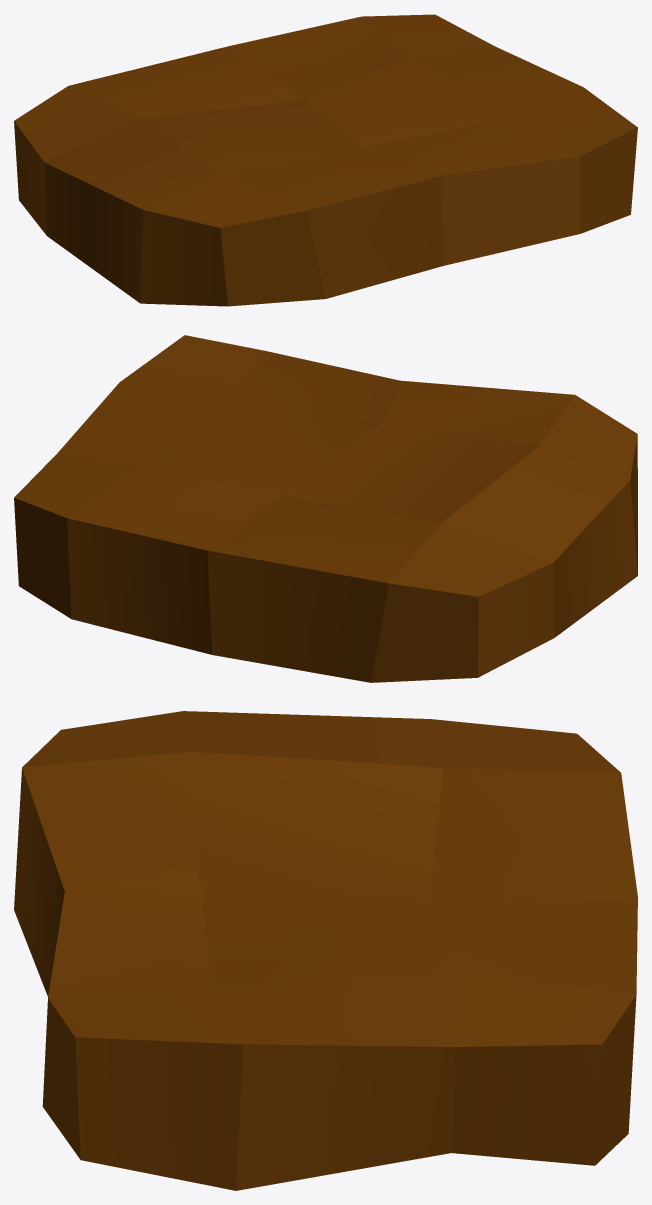
The model's file is garden_bed.glb.
The picture shows the model from 3 angles, top to bottom: view 1: azimuth 30°, elevation 25°; view 2: azimuth 150°, elevation 25°; view 3: azimuth 270°, elevation 25°; orthographic projection. The views are drawn at different scales.
Parts seen in each view (by area): view 1: ground.003; view 2: ground.003; view 3: ground.003.
Boxes of the visible parts, x1,y1,x2,y2 form: ground.003: [14, 14, 637, 306]; ground.003: [14, 335, 637, 682]; ground.003: [14, 711, 637, 1190].
Bounding box in the file's own units: 4.52 × 1.12 × 3.51.
